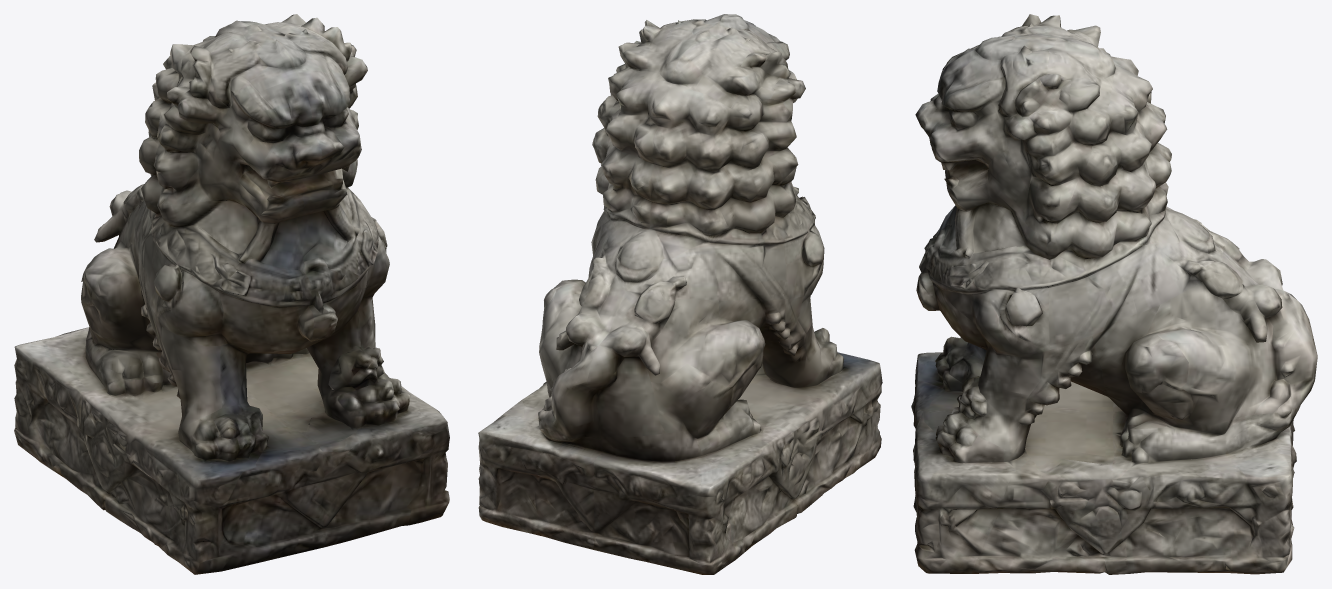
Rendered from lion-mid.glb.
3 views of the same model, side by side, from view 1: azimuth 30°, elevation 25°; view 2: azimuth 150°, elevation 25°; view 3: azimuth 270°, elevation 25° (orthographic). The views are drawn at different scales.
Size of the model in its own units: 0.5807 by 0.9999 by 0.7718.
1 material, 1 textured.
